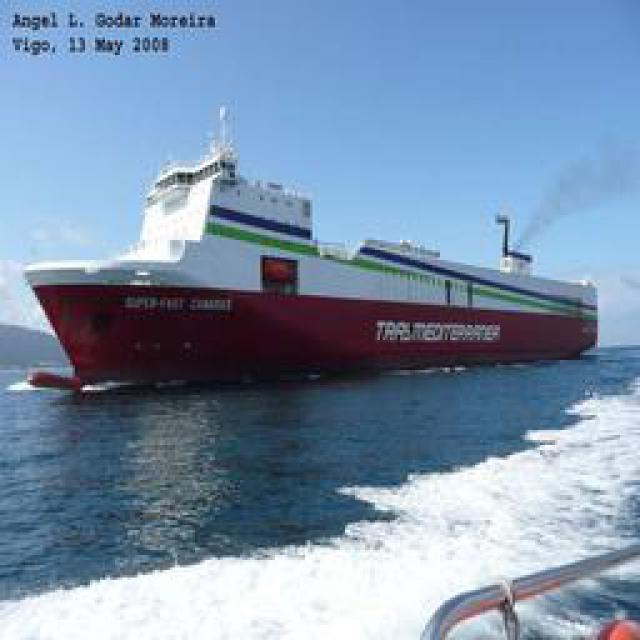Ship: (26, 112, 594, 382)
